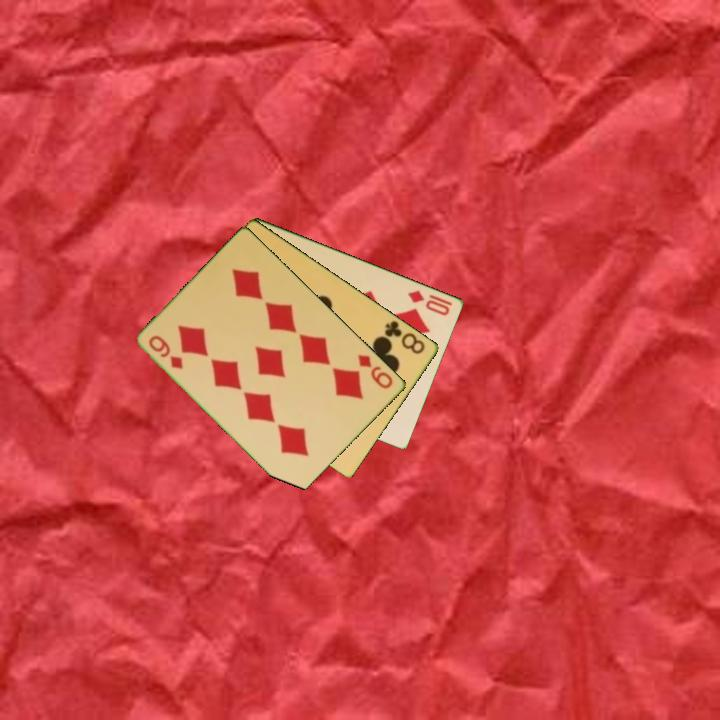10d: (405, 286, 453, 318)
8c: (381, 317, 428, 357)
9d: (355, 351, 396, 391), (145, 332, 186, 372)
